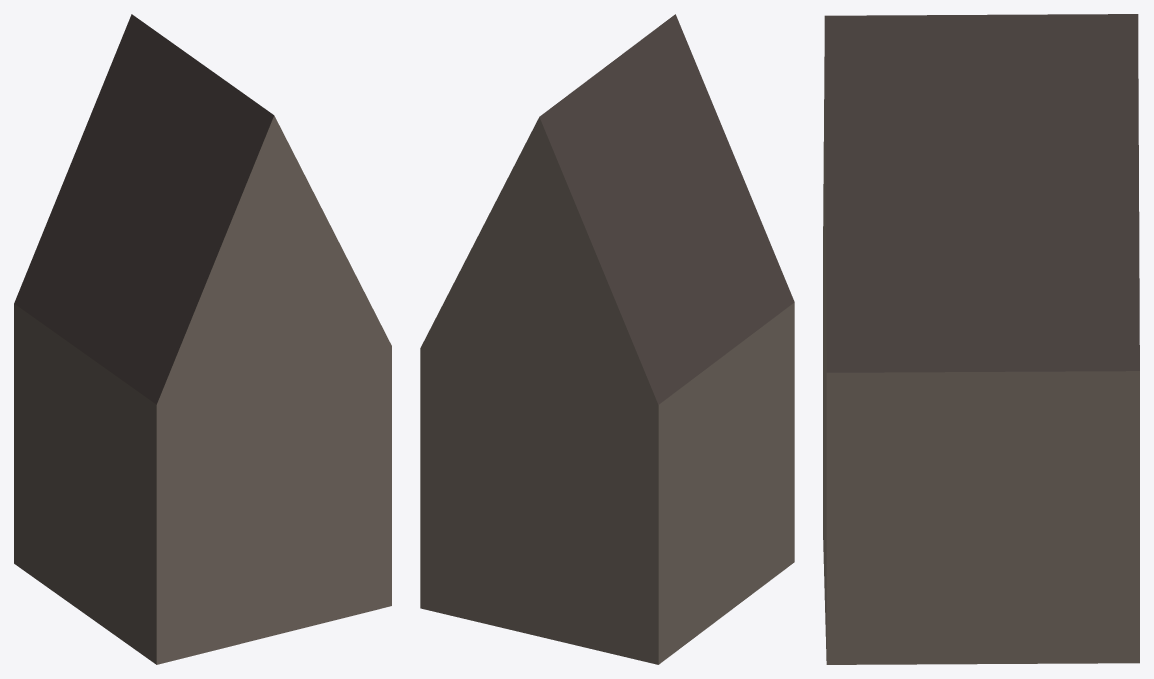
The picture shows the model from 3 angles, left to right: view 1: azimuth 30°, elevation 25°; view 2: azimuth 150°, elevation 25°; view 3: azimuth 270°, elevation 25°; orthographic projection. The views are drawn at different scales.
Visible parts, largest first — view 1: HP-w428179948; view 2: HP-w428179948; view 3: HP-w428179948.
Boxes of the visible parts, x1,y1,x2,y2 form: HP-w428179948: [14, 14, 391, 664]; HP-w428179948: [420, 14, 794, 664]; HP-w428179948: [823, 14, 1139, 664].
Size of the model in its own units: 2.9 by 6 by 2.95.
